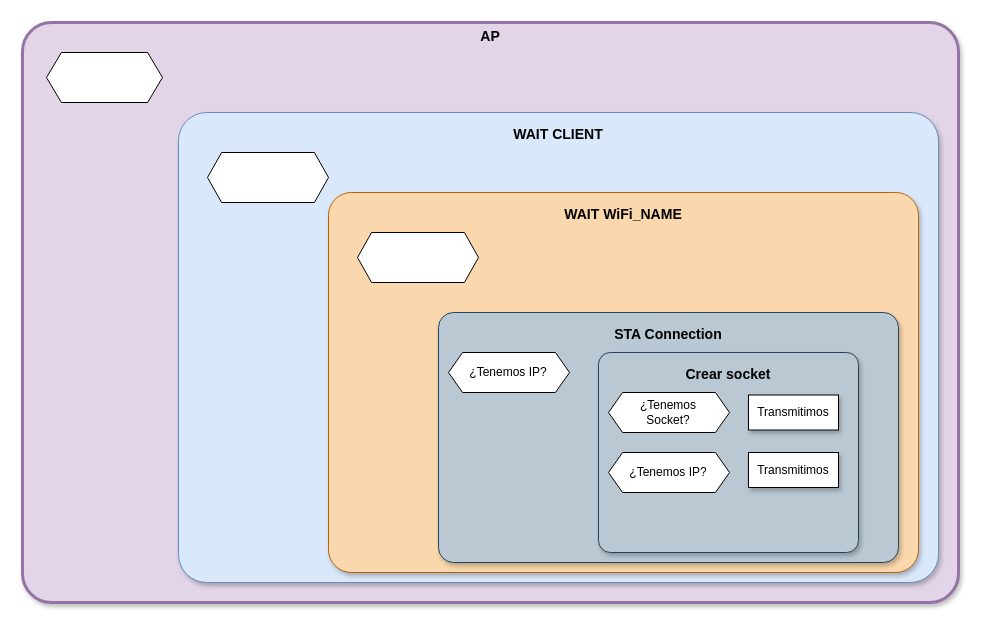
This 983x628 diagram has some shape labels left out. Here are the shapes that lost their labels. From the top down, the centre of each, then its label:
At pixel 104 77: "¿se ha creado el AP?".
At pixel 267 177: "¿Se ha conectado un cliente?".
At pixel 417 257: "¿Tenemos Nombre_de_Wifi y password?".
